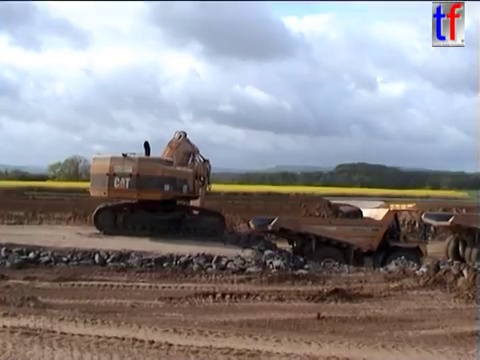excavator: (86, 128, 228, 243)
truck: (246, 201, 436, 289), (419, 208, 480, 276)
